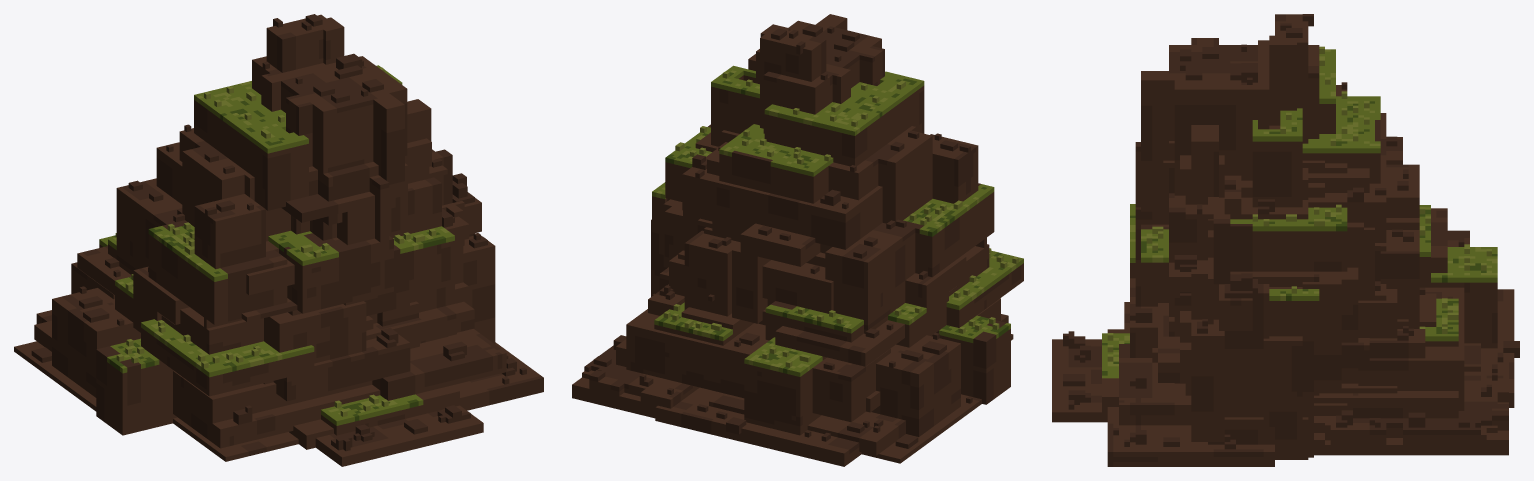
The model's file is montaña tierra.fbx.
3 views of the same model, side by side, from view 1: azimuth 30°, elevation 25°; view 2: azimuth 150°, elevation 25°; view 3: azimuth 270°, elevation 25° (orthographic). The views are drawn at different scales.
Visible parts, largest first — view 1: ObjObject; view 2: ObjObject; view 3: ObjObject.
Part boxes in pixels (x1,y1,x2,y2): ObjObject: [14, 14, 543, 466]; ObjObject: [572, 14, 1023, 466]; ObjObject: [1052, 14, 1519, 466].
Bounding box in the file's own units: 790 × 720 × 840.
